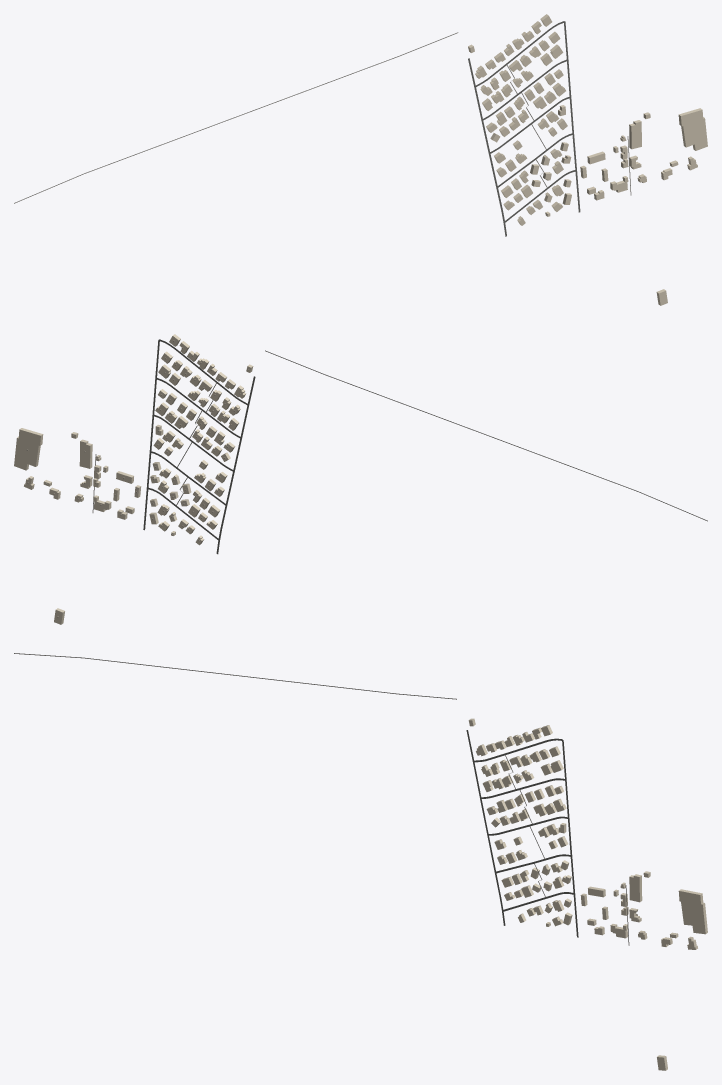
Rendered from historic-palestine-12_31_3540_3259.glb.
3 renders of one model, top to bottom at view 1: azimuth 30°, elevation 25°; view 2: azimuth 150°, elevation 25°; view 3: azimuth 330°, elevation 25°, orthographic.
Parts seen in each view (by area): view 1: Building_.072, Road .006; view 2: Building_.072, Road .006; view 3: Building_.072.
Part boxes in pixels (<box>): Building_.072: <box>678,108,707,150</box>; Road .006: <box>14,32,458,203</box>; Building_.072: <box>14,428,43,470</box>; Road .006: <box>265,350,707,521</box>; Building_.072: <box>678,889,707,934</box>.
Bounding box in the file's own units: 1319 × 587 × 8.7.
